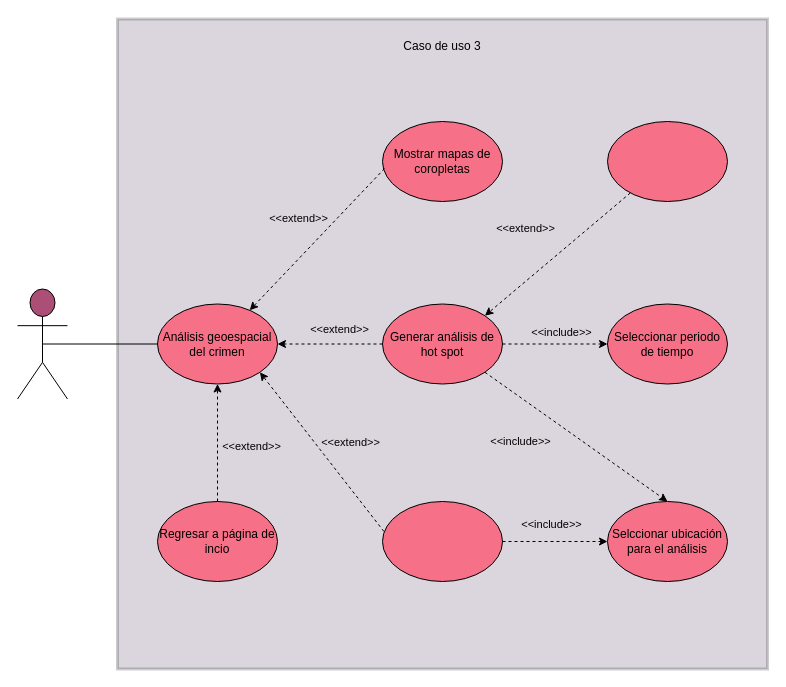
The diagram is 786 pixels wide and 687 high, and some of its shapes have lost their labels. The shapes that lost their labels are listed below. From the top down, each one's centre as x and y in pixels, then its label:
(667,161): Comparar hot spots
(42,343): Usuario
(442,541): Generar mapa de calor por delito
